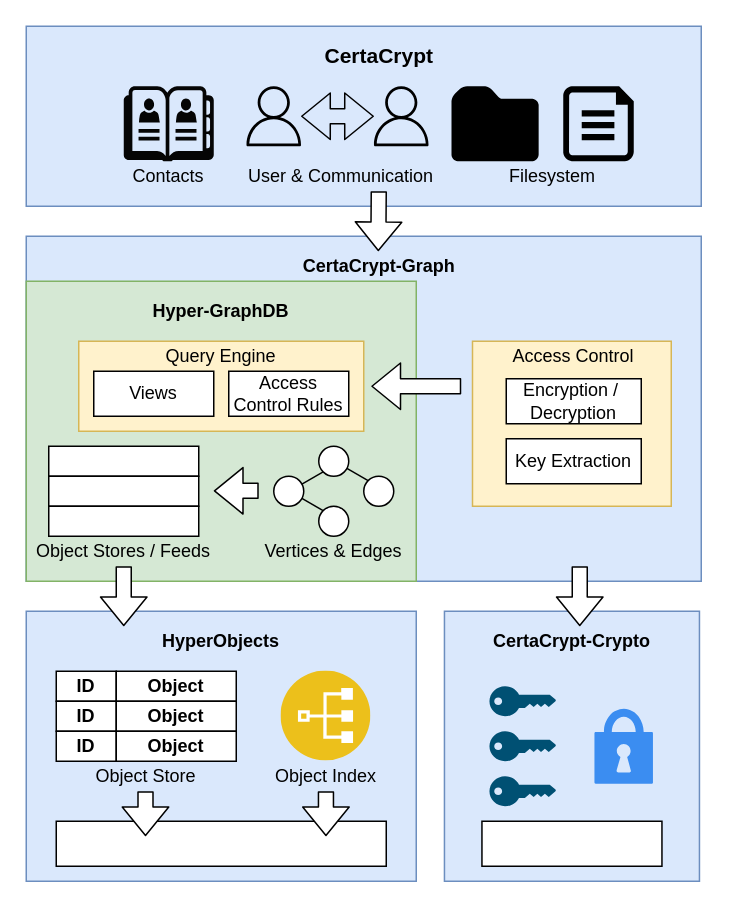
This 734x908 diagram has some shape labels left out. Each missing label, with the box of its shape:
Hypercore-based Transaction Log: (55, 820, 386, 866)
Key Management & Crypto Utilities: (480, 820, 662, 866)
